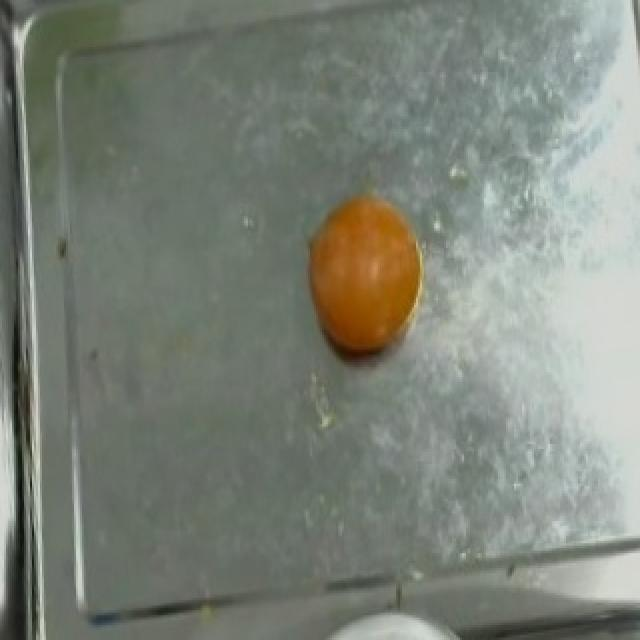Fruit: (294, 179, 444, 372)
